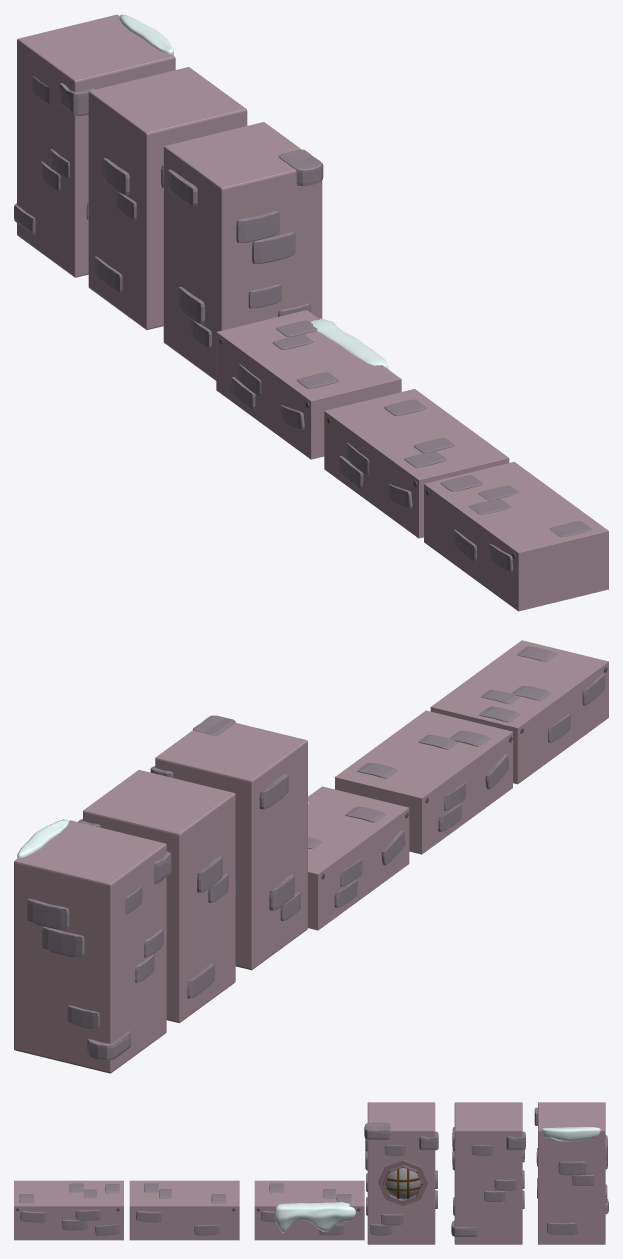
The model's file is Platform02.fbx.
The picture shows the model from 3 angles, top to bottom: view 1: azimuth 30°, elevation 25°; view 2: azimuth 150°, elevation 25°; view 3: azimuth 270°, elevation 25°; orthographic projection. The views are drawn at different scales.
Parts seen in each view (by area): view 1: Cube.078, Cube.135, Cube.136, Cube.044, Cube.056, Cube.074; view 2: Cube.136, Cube.078, Cube.135, Cube.074, Cube.044, Cube.056; view 3: Cube.135, Cube.078, Cube.136, Cube.056, Cube.074, Cube.044.
Part boxes in pixels (x1,y1,x2,y2): Cube.078: (163,122,323,380); Cube.135: (88,67,247,329); Cube.136: (14,14,175,277); Cube.044: (424,461,608,611); Cube.056: (216,310,401,459); Cube.074: (324,389,509,538); Cube.136: (14,819,171,1073); Cube.078: (150,715,307,970); Cube.135: (78,770,235,1023); Cube.074: (335,710,512,854); Cube.044: (430,640,608,784); Cube.056: (308,786,409,930); Cube.135: (451,1102,525,1244); Cube.078: (364,1102,438,1244); Cube.136: (534,1102,608,1244); Cube.056: (254,1180,364,1240); Cube.074: (129,1180,239,1240); Cube.044: (14,1180,123,1240).
Size of the model in its own units: 530 by 826 by 3785.
